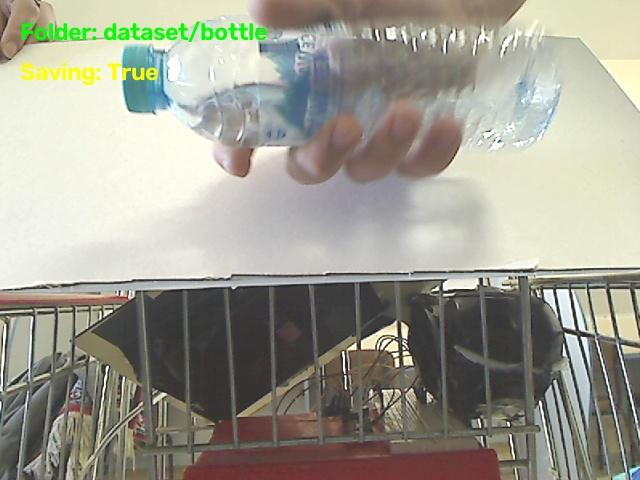Bottle: (122, 17, 559, 149)
